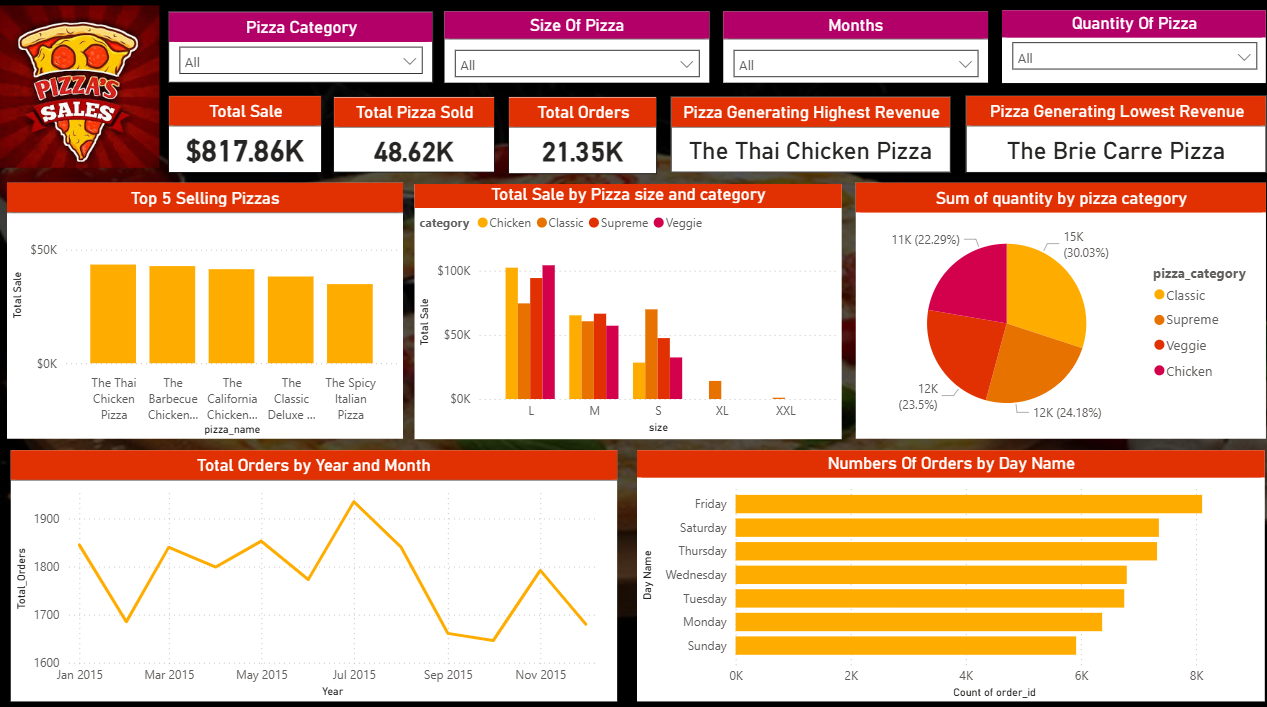

Layout of this report page (visuals, bound fields, positions):
{"tool":"powerbi","page":{"name":"Page 1","canvas":[1280,720],"ordinal":0},"visuals":[{"type":"card","title":"Total Orders","fields":{"Values":["orders.Total_Orders"]},"box":[13.7,69.7,190.3,84.6],"z":0},{"type":"textbox","box":[0,0,1279.7,57],"z":1000},{"type":"card","title":"Total Sale","fields":{"Values":["order_details.Total Sale"]},"box":[212.7,69.7,190.3,84.6],"z":2000},{"type":"card","title":"Total  Pizza Sold","fields":{"Values":["CountNonNull(order_details.quantity)"]},"box":[416.7,69.7,190.3,84.6],"z":3000},{"type":"columnChart","title":"Top 5 Selling Pizzas","fields":{"Category":["pizzas.pizza_name"],"Y":["order_details.Total Sale"]},"box":[13.7,251.3,396.8,228.9],"z":4000},{"type":"clusteredColumnChart","title":"Total Sale by Pizza size and category","fields":{"Category":["pizzas.size"],"Series":["pizza_types.category"],"Y":["order_details.Total Sale"]},"box":[426.7,251.3,426.7,228.9],"z":5000},{"type":"card","title":" Pizza Generating Lowest Revenue","fields":{"Values":["order_details.LowestRevenuePizza"]},"box":[951.6,69.7,318.5,84.6],"z":6000},{"type":"slicer","title":"Pizza Category","fields":{"Values":["pizzas.pizza_category"]},"box":[0,171.8,222.5,70.4],"z":7000},{"type":"pieChart","title":"Sum of quantity by pizza category","fields":{"Category":["pizzas.pizza_category"],"Y":["Sum(order_details.quantity)"]},"box":[868.3,251.3,401.8,228.9],"z":8000},{"type":"lineChart","title":"Total Orders by Year and Month","fields":{"Category":["orders.date.Variation.Date Hierarchy.Year","orders.date.Variation.Date Hierarchy.Month"],"Y":["orders.Total_Orders"]},"box":[13.7,490.1,605.8,212.7],"z":9000},{"type":"slicer","title":"Months","fields":{"Values":["orders.date.Variation.Date Hierarchy.Month"]},"box":[235.2,171.8,221.1,70.4],"z":10000},{"type":"slicer","title":"Size Of Pizza","fields":{"Values":["pizzas.size"]},"box":[476.1,171.8,221.1,70.4],"z":11000},{"type":"card","title":" Pizza Generating Highest Revenue","fields":{"Values":["order_details.MostOrderedproduct"]},"box":[619.5,69.7,317.2,84.6],"z":12000},{"type":"card","title":"Most Loved Pizza","fields":{"Values":["order_details.MostOrderedPizza"]},"box":[951.6,171.7,317.2,70.9],"z":13000},{"type":"slicer","title":"Quantity Of Pizza","fields":{"Values":["order_details.quantity"]},"box":[715.5,170.4,221.1,71.8],"z":14000},{"type":"barChart","title":"Numbers Of Orders by Day Name","fields":{"Y":["CountNonNull(order_details.order_id)"],"Category":["orders.Day Name"]},"box":[639.4,490.1,629.6,212.7],"z":14001}]}

Visuals, with their boxes in screenshot pixels (x1, y1, x2, y2), scaled from the page's 1280x720 canvas onto the 1267x707 screenshot:
"Total Orders" card: (14,68,202,152)
textbox: (0,0,1266,56)
"Total Sale" card: (211,68,399,152)
"Total  Pizza Sold" card: (412,68,601,152)
"Top 5 Selling Pizzas" columnChart: (14,247,406,472)
"Total Sale by Pizza size and category" clusteredColumnChart: (422,247,845,472)
" Pizza Generating Lowest Revenue" card: (942,68,1257,152)
"Pizza Category" slicer: (0,169,220,238)
"Sum of quantity by pizza category" pieChart: (859,247,1257,472)
"Total Orders by Year and Month" lineChart: (14,481,613,690)
"Months" slicer: (233,169,452,238)
"Size Of Pizza" slicer: (471,169,690,238)
" Pizza Generating Highest Revenue" card: (613,68,927,152)
"Most Loved Pizza" card: (942,169,1256,238)
"Quantity Of Pizza" slicer: (708,167,927,238)
"Numbers Of Orders by Day Name" barChart: (633,481,1256,690)
